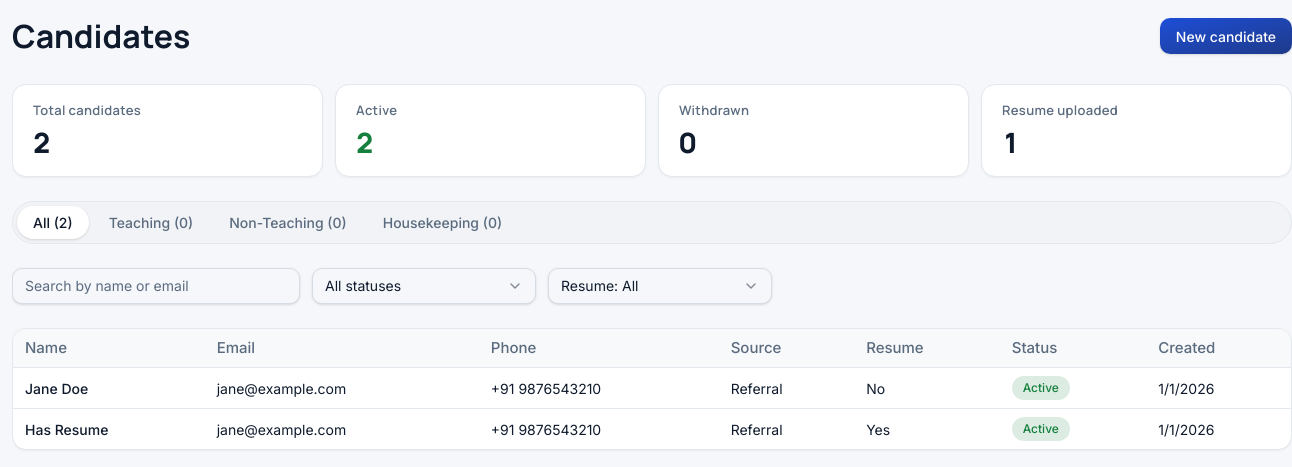
CandidatesListPage › narrows the list client-side by resume presence
Expected: the link "Jane Doe" is shown, x1=25 y1=380 x2=88 y2=396
Expected: the link "Has Resume" is shown, x1=25 y1=420 x2=108 y2=438
Click the dropdown named "Resume filter" at (660, 286), box x1=548 y1=268 x2=772 y2=304
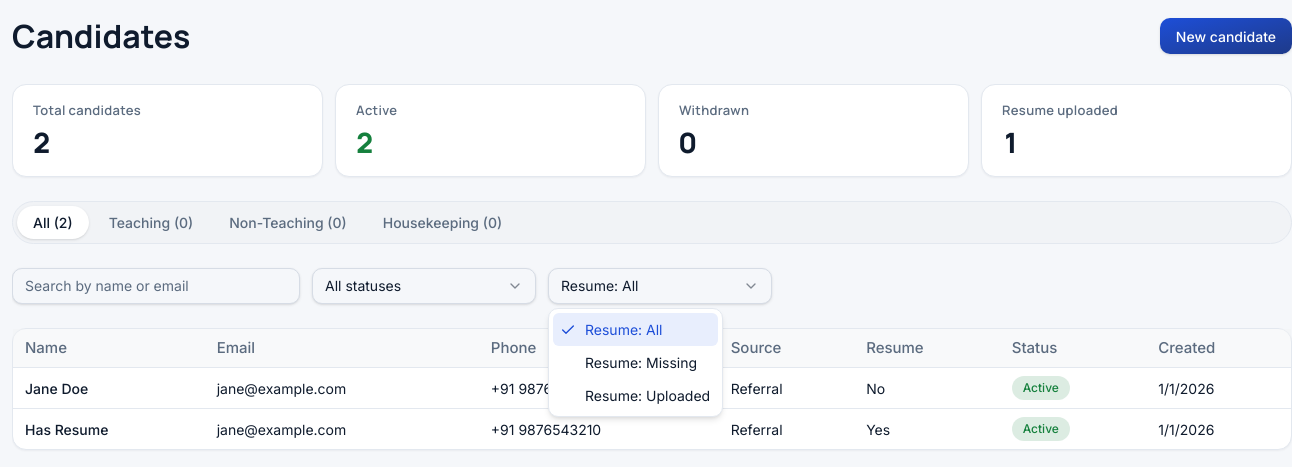
Click the option "Resume: Missing" at (641, 362), box x1=585 y1=354 x2=697 y2=371
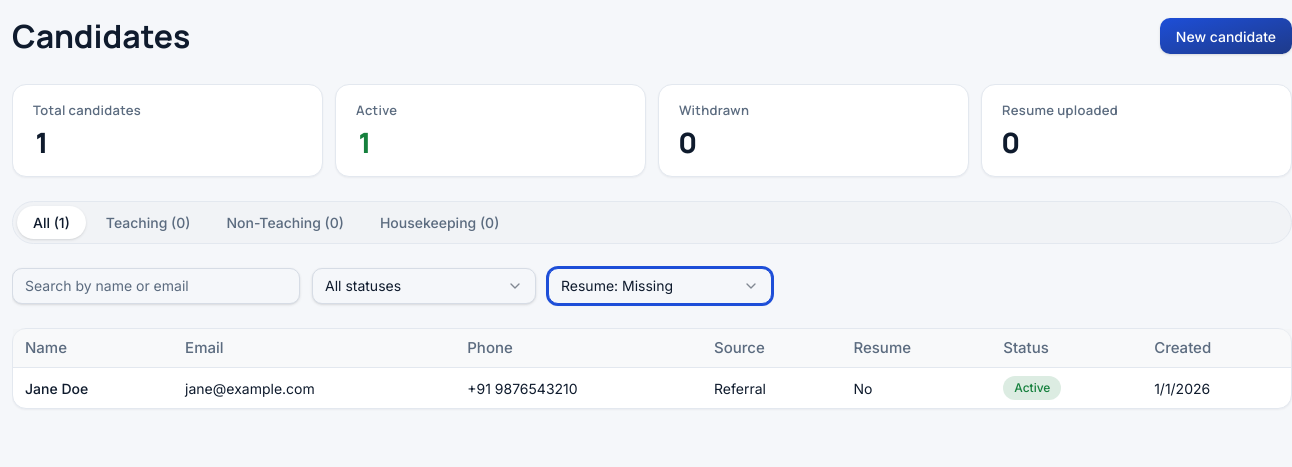
Expected: the link "Jane Doe" is shown, x1=25 y1=380 x2=88 y2=396
Expected: the link "Has Resume" is gone
